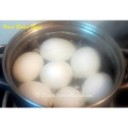begg: (42, 62, 72, 88)
